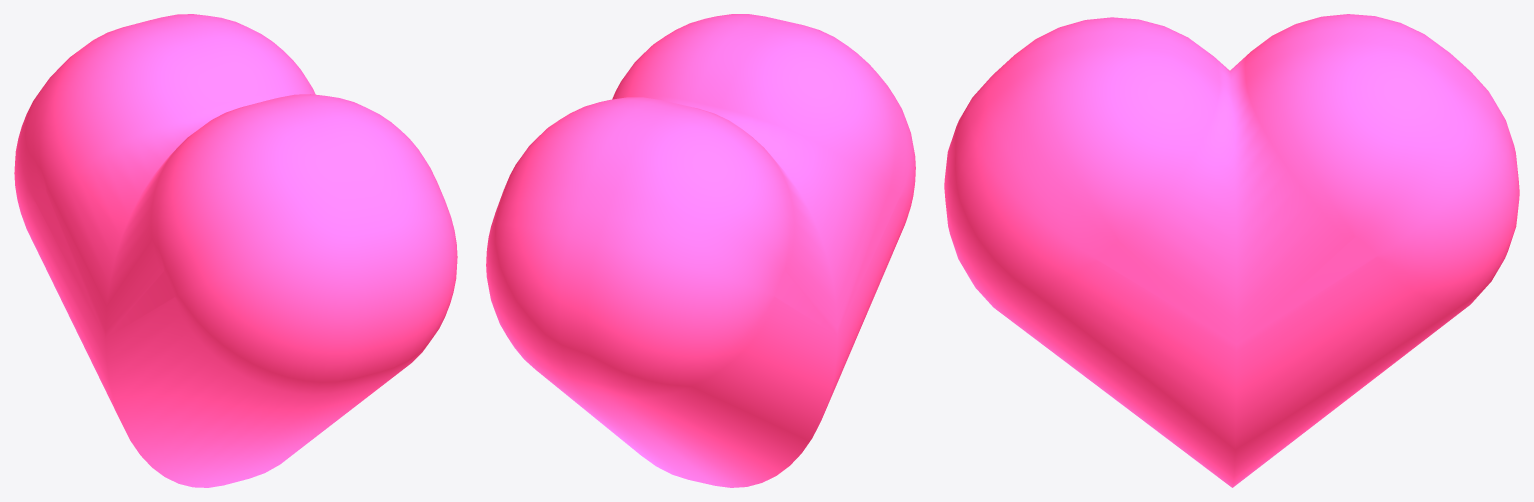
File: Heart.fbx
3 renders of one model, left to right at view 1: azimuth 30°, elevation 25°; view 2: azimuth 150°, elevation 25°; view 3: azimuth 270°, elevation 25°, orthographic. The views are drawn at different scales.
Parts seen in each view (by area): view 1: Cube; view 2: Cube; view 3: Cube.
Boxes of the visible parts, box(x1,y1,x2,y2) form: Cube: box(14, 14, 457, 487); Cube: box(486, 14, 915, 487); Cube: box(944, 14, 1519, 487).
Size of the model in its own units: 206 by 294 by 353.
